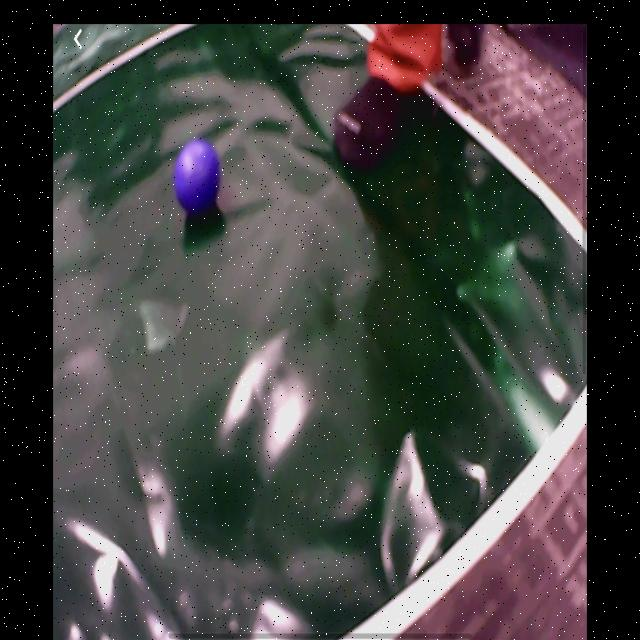ball: (174, 139, 222, 213)
